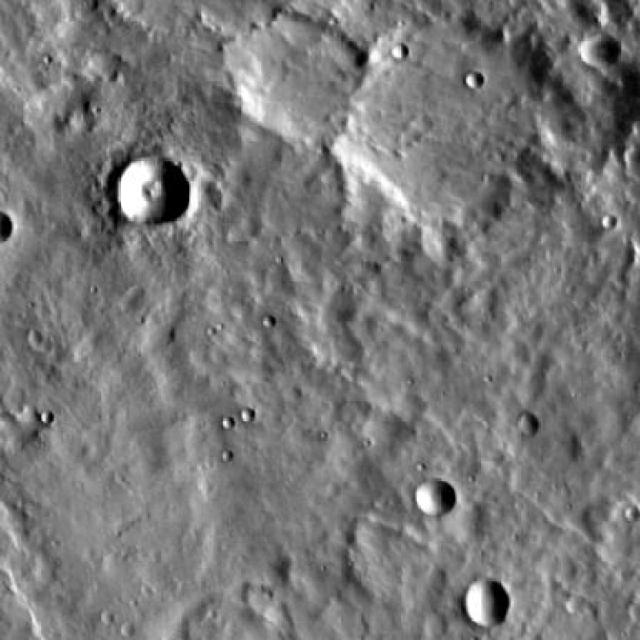crater: (326, 22, 546, 238), (227, 16, 362, 149), (116, 158, 187, 228), (462, 578, 510, 624), (579, 29, 621, 71), (417, 481, 455, 519), (618, 152, 640, 186), (518, 414, 538, 432), (466, 74, 485, 91), (391, 44, 407, 59)
